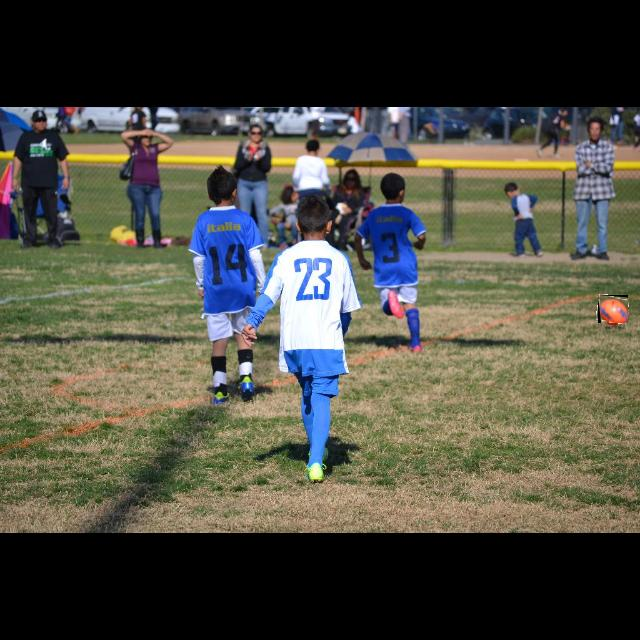Football: (598, 295, 628, 323)
